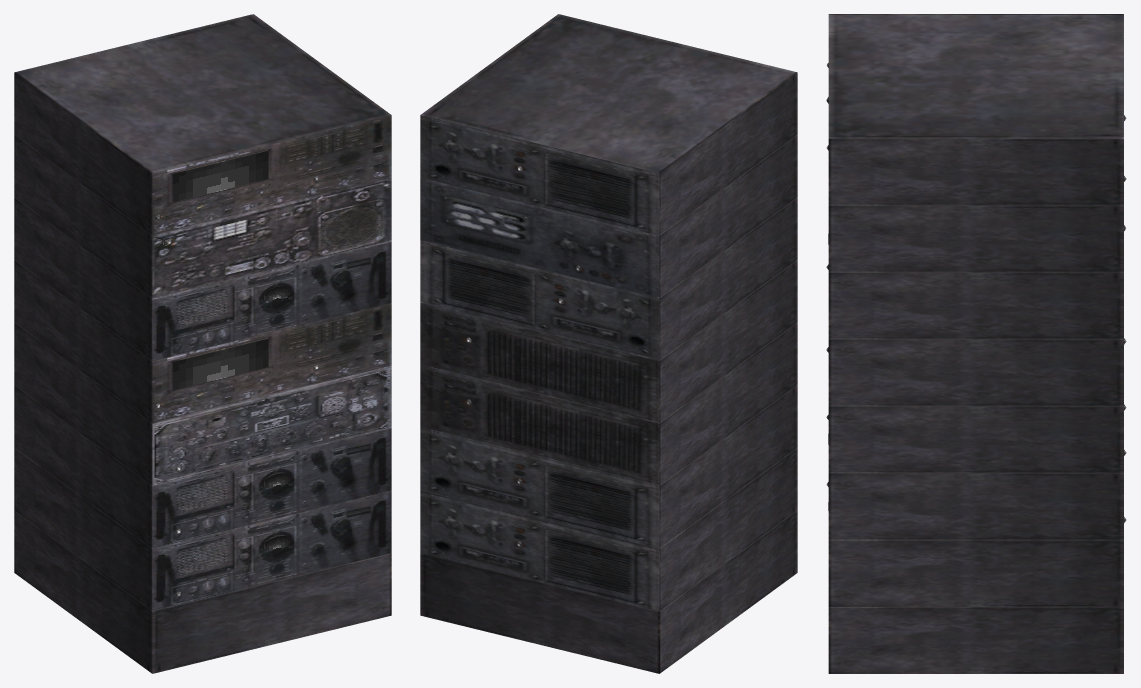
The model's file is Radio01.glb.
3 views of the same model, side by side, from view 1: azimuth 30°, elevation 25°; view 2: azimuth 150°, elevation 25°; view 3: azimuth 270°, elevation 25° (orthographic). The views are drawn at different scales.
Parts seen in each view (by area): view 1: _Radio01; view 2: _Radio01; view 3: _Radio01.
Part boxes in pixels (x1,y1,x2,y2): _Radio01: (14, 14, 391, 673); _Radio01: (420, 14, 797, 673); _Radio01: (826, 14, 1126, 673).
Bounding box in the file's own units: 1 × 2 × 1.02.
Materials: 3 (3 with a texture image).
